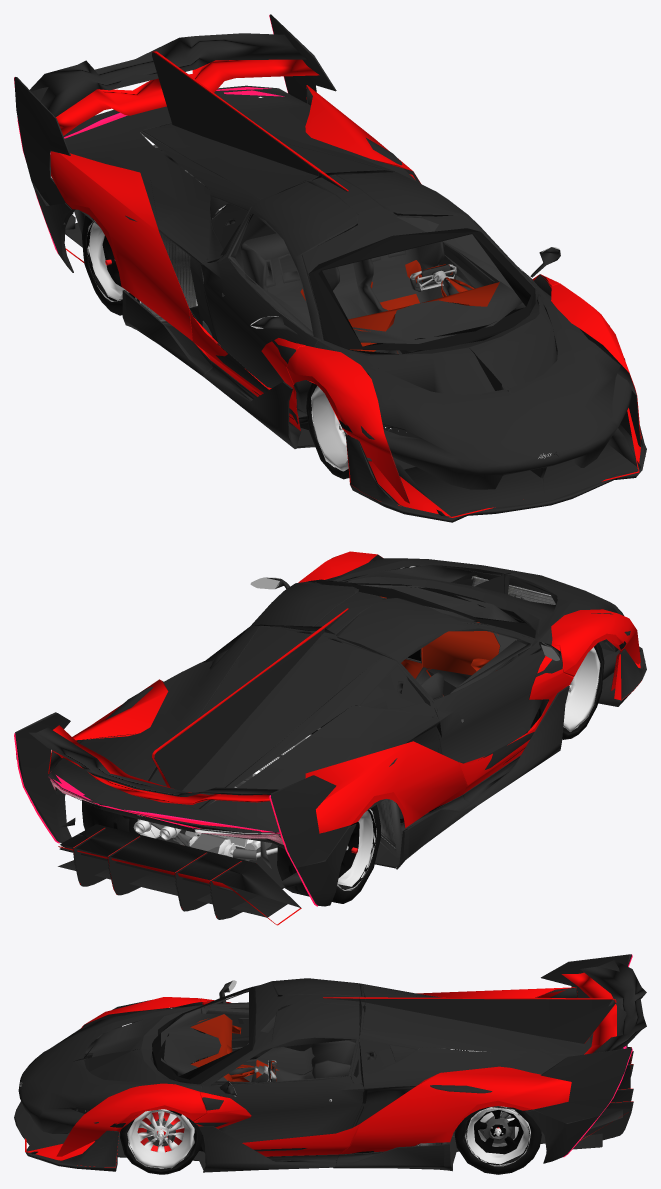
File: car_abyss_lo.glb
The picture shows the model from 3 angles, top to bottom: view 1: azimuth 30°, elevation 25°; view 2: azimuth 150°, elevation 25°; view 3: azimuth 270°, elevation 25°; orthographic projection. The views are drawn at different scales.
Visible parts, largest first — view 1: Object_67, Object_79, Object_78, Object_57, Object_80, Object_100, Object_69, Object_64, Object_68, Object_41, Object_105, Object_45 (+10 smaller); view 2: Object_79, Object_78, Object_57, Object_100, Object_75, Object_80, Object_55, Object_69, Object_68, Object_67, WheelRearL, Object_46 (+19 smaller); view 3: Object_79, Object_80, Object_100, Object_57, Object_67, Object_55, Object_78, Object_68, Object_69, WheelRearR, WheelFrontR, Object_105 (+13 smaller).
Boxes of the visible parts, x1=… form: Object_67: x1=314, y1=287, x2=631, y2=492; Object_79: x1=72, y1=52, x2=420, y2=376; Object_78: x1=50, y1=85, x2=417, y2=342; Object_57: x1=189, y1=171, x2=560, y2=448; Object_80: x1=50, y1=51, x2=420, y2=359; Object_100: x1=14, y1=14, x2=336, y2=272; Object_69: x1=294, y1=289, x2=640, y2=502; Object_64: x1=345, y1=424, x2=646, y2=522; Object_68: x1=287, y1=283, x2=640, y2=503; Object_41: x1=308, y1=228, x2=535, y2=350; Object_105: x1=240, y1=233, x2=447, y2=352; Object_45: x1=201, y1=213, x2=522, y2=354; Object_79: x1=49, y1=625, x2=476, y2=869; Object_78: x1=48, y1=659, x2=441, y2=848; Object_57: x1=251, y1=577, x2=569, y2=805; Object_100: x1=15, y1=712, x2=356, y2=906; Object_75: x1=58, y1=818, x2=302, y2=919; Object_80: x1=48, y1=627, x2=466, y2=833; Object_55: x1=201, y1=639, x2=563, y2=762; Object_69: x1=325, y1=555, x2=620, y2=690; Object_68: x1=299, y1=551, x2=640, y2=690; Object_67: x1=326, y1=558, x2=630, y2=668; WheelRearL: x1=277, y1=805, x2=380, y2=903; Object_46: x1=380, y1=596, x2=499, y2=695; Object_79: x1=333, y1=983, x2=615, y2=1171; Object_80: x1=340, y1=987, x2=616, y2=1154; Object_100: x1=525, y1=954, x2=646, y2=1163; Object_57: x1=195, y1=978, x2=361, y2=1172; Object_67: x1=18, y1=1005, x2=201, y2=1133; Object_55: x1=201, y1=1002, x2=364, y2=1142; Object_78: x1=351, y1=995, x2=627, y2=1126; Object_68: x1=56, y1=997, x2=206, y2=1156; Object_69: x1=19, y1=1000, x2=202, y2=1115; WheelRearR: x1=454, y1=1106, x2=541, y2=1174; WheelFrontR: x1=120, y1=1109, x2=202, y2=1174; Object_105: x1=251, y1=1039, x2=356, y2=1082.
Size of the model in its own units: 2.36 by 1.3 by 5.56.
Materials: 28 (2 with a texture image).
